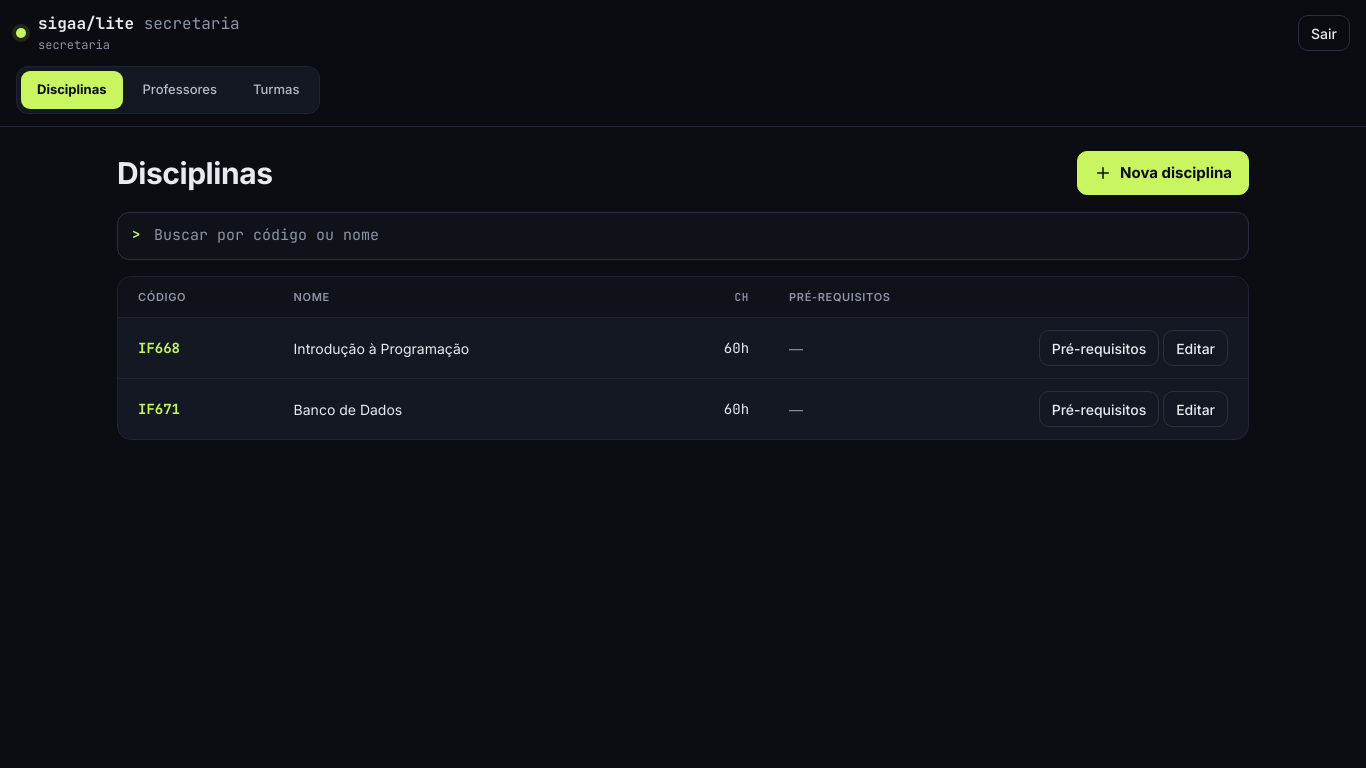
Test: Disciplinas › edita com os valores atuais preenchidos
The image size is (1366, 768).
Click the button with aria-label "Editar IF671": coordinates (1196, 409) x1=1163 y1=391 x2=1228 y2=427
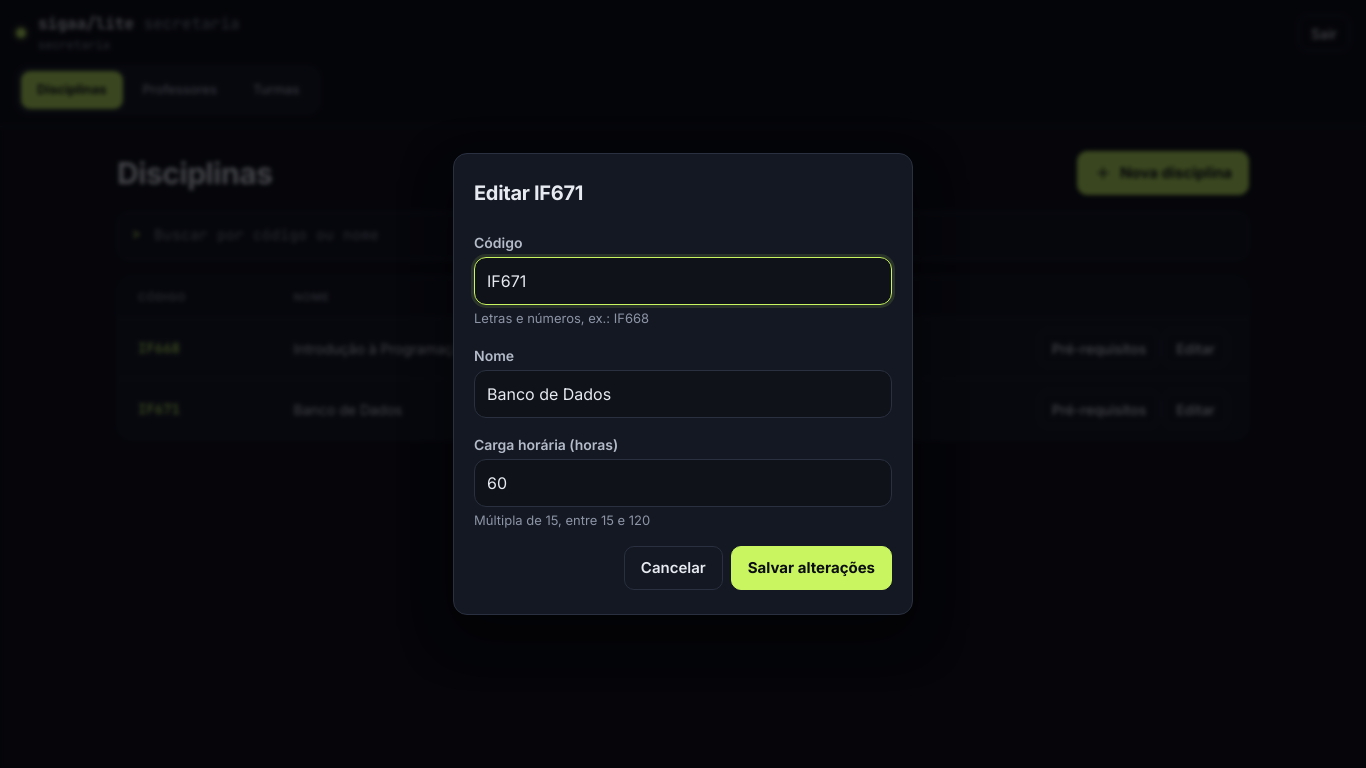
expect the field labelled "Nome" holds "Banco de Dados": met, box x1=474 y1=370 x2=892 y2=418
Replace the text in the number field labelled "Carga horária (horas)" with "90": coordinates (683, 482) x1=474 y1=458 x2=892 y2=506
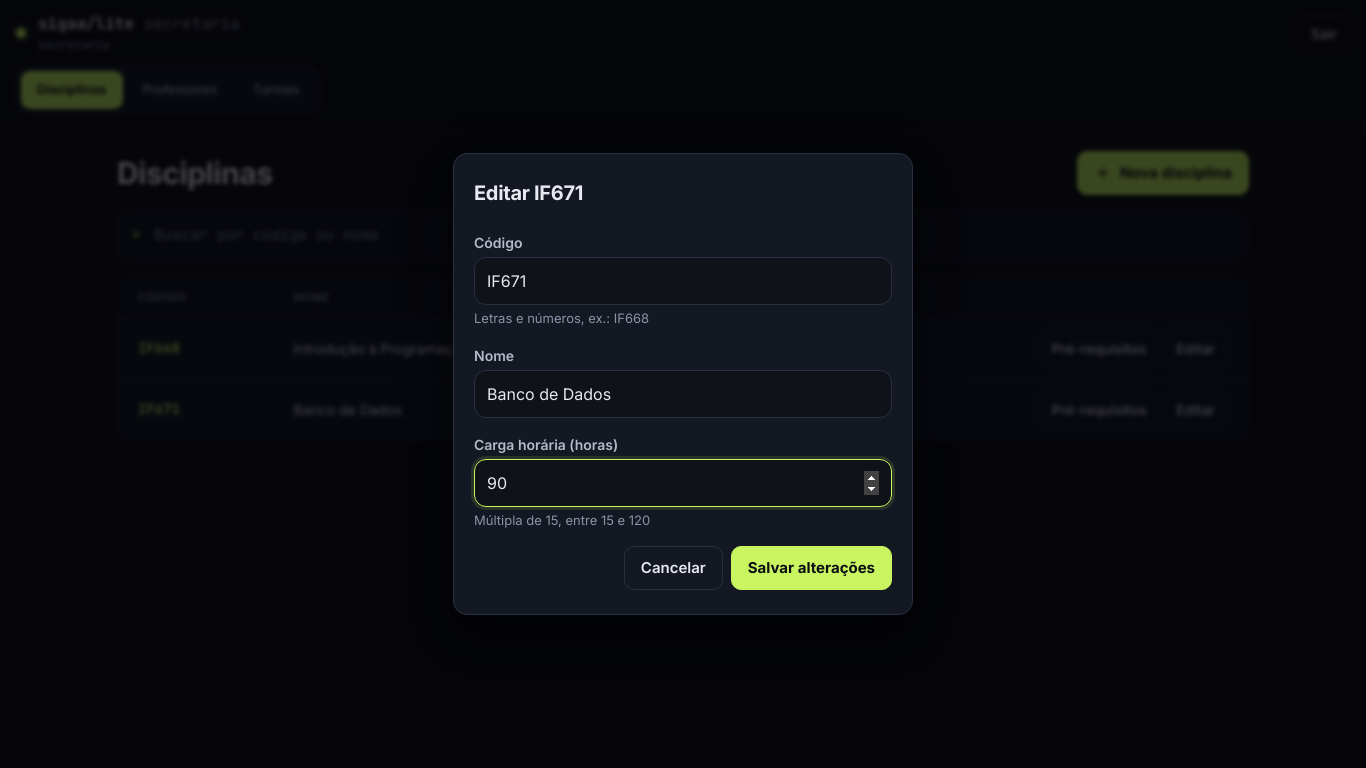
Click the button "Salvar alterações": coordinates (811, 568) x1=731 y1=546 x2=892 y2=590
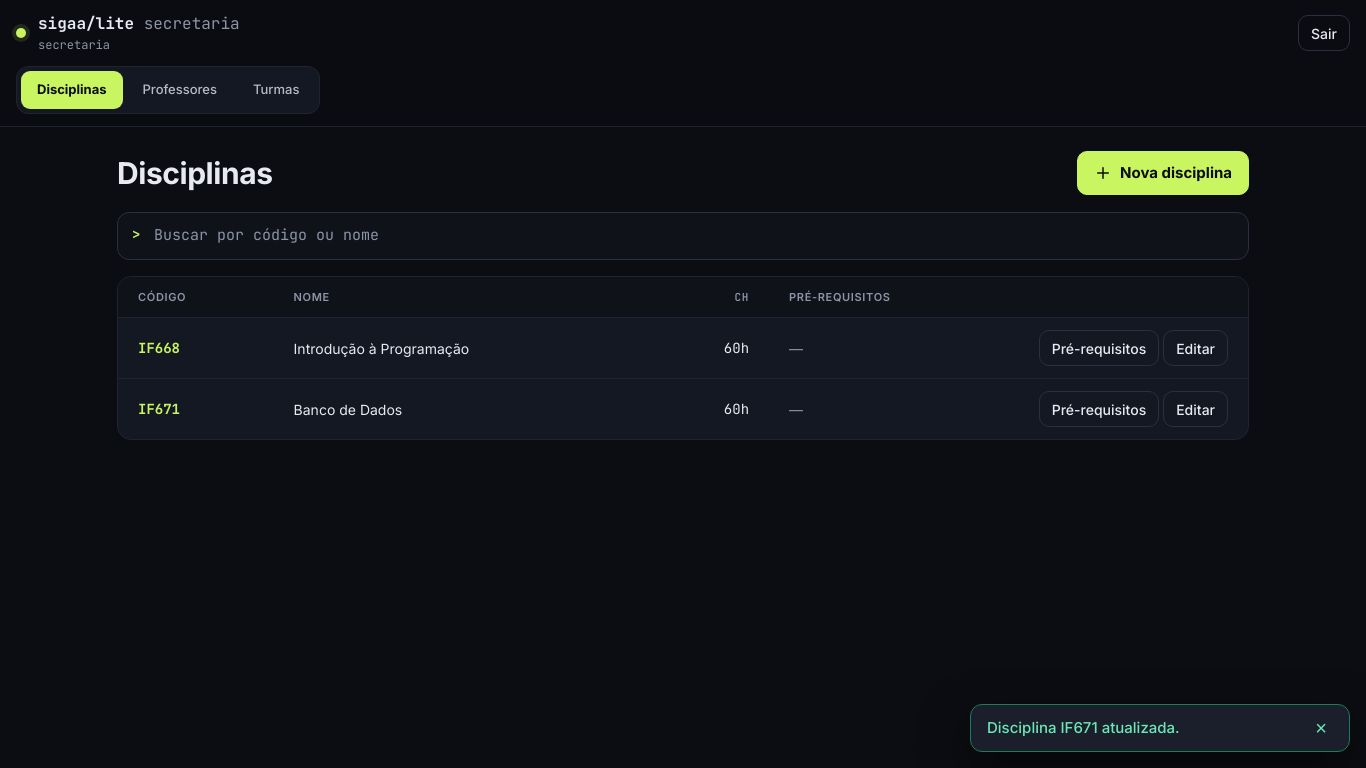
expect the text "Disciplina IF671 atualizada." is shown: met, box x1=987 y1=716 x2=1180 y2=739
